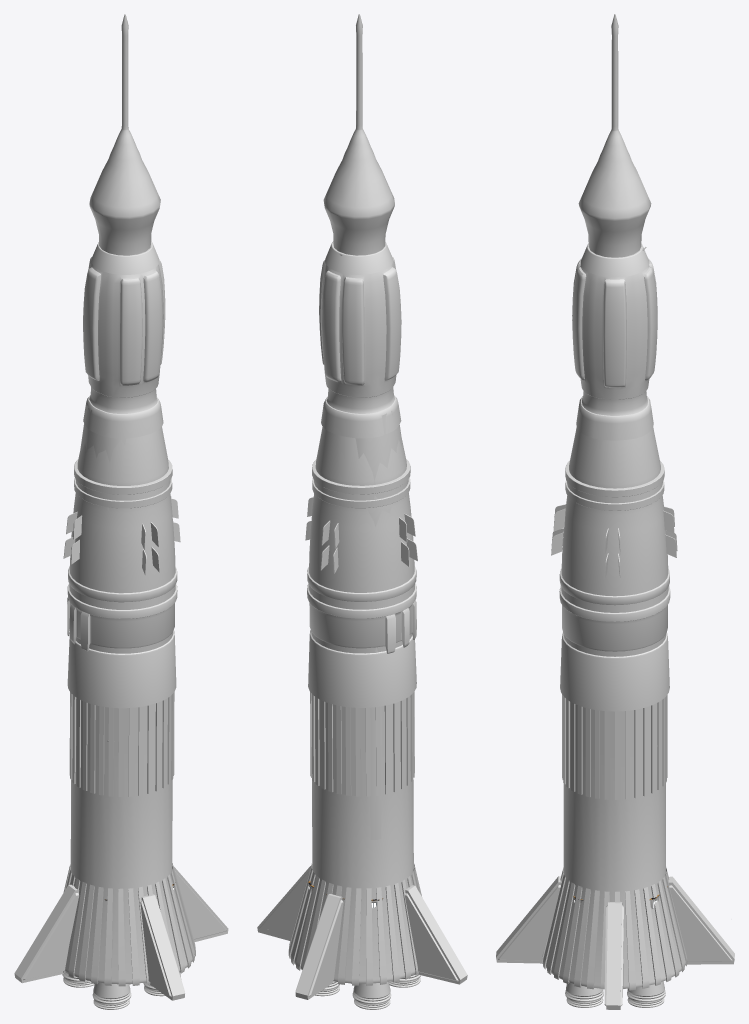
The model's file is Vaisseau_Accessoirre.fbx.
3 views of the same model, side by side, from view 1: azimuth 30°, elevation 25°; view 2: azimuth 150°, elevation 25°; view 3: azimuth 270°, elevation 25° (orthographic).
Visible parts, largest first — view 1: Cylinder.049, Cube.017, Cylinder.050, Cylinder.075, Cube.029; view 2: Cylinder.049, Cube.017, Cylinder.050, Cylinder.075, Cube.029, Cylinder.086; view 3: Cylinder.049, Cube.017, Cylinder.050, Cylinder.075.
Part boxes in pixels (box(x1,y1,x2,y2)): Cylinder.049: box(14, 692, 228, 1009); Cube.017: box(63, 427, 180, 708); Cylinder.050: box(83, 241, 165, 438); Cylinder.075: box(89, 14, 160, 255); Cube.029: box(75, 405, 125, 512); Cylinder.049: box(257, 692, 467, 1009); Cube.017: box(305, 427, 417, 707); Cylinder.050: box(319, 241, 401, 438); Cylinder.075: box(323, 14, 394, 255); Cube.029: box(355, 411, 402, 839); Cylinder.086: box(319, 737, 355, 795); Cylinder.049: box(496, 694, 734, 1009); Cube.017: box(551, 427, 677, 711); Cylinder.050: box(572, 243, 657, 440); Cylinder.075: box(578, 14, 651, 257).
Size of the model in its own units: 3125 by 14107 by 3125.
